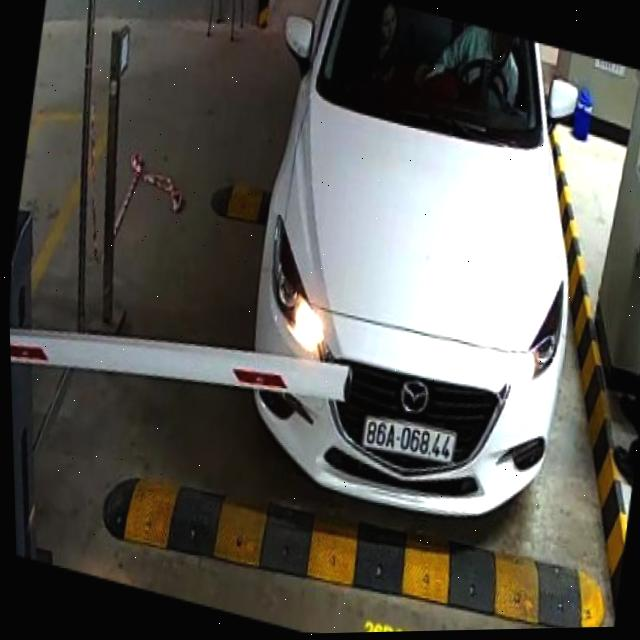car: (227, 0, 603, 541)
plate: (357, 408, 459, 468)
